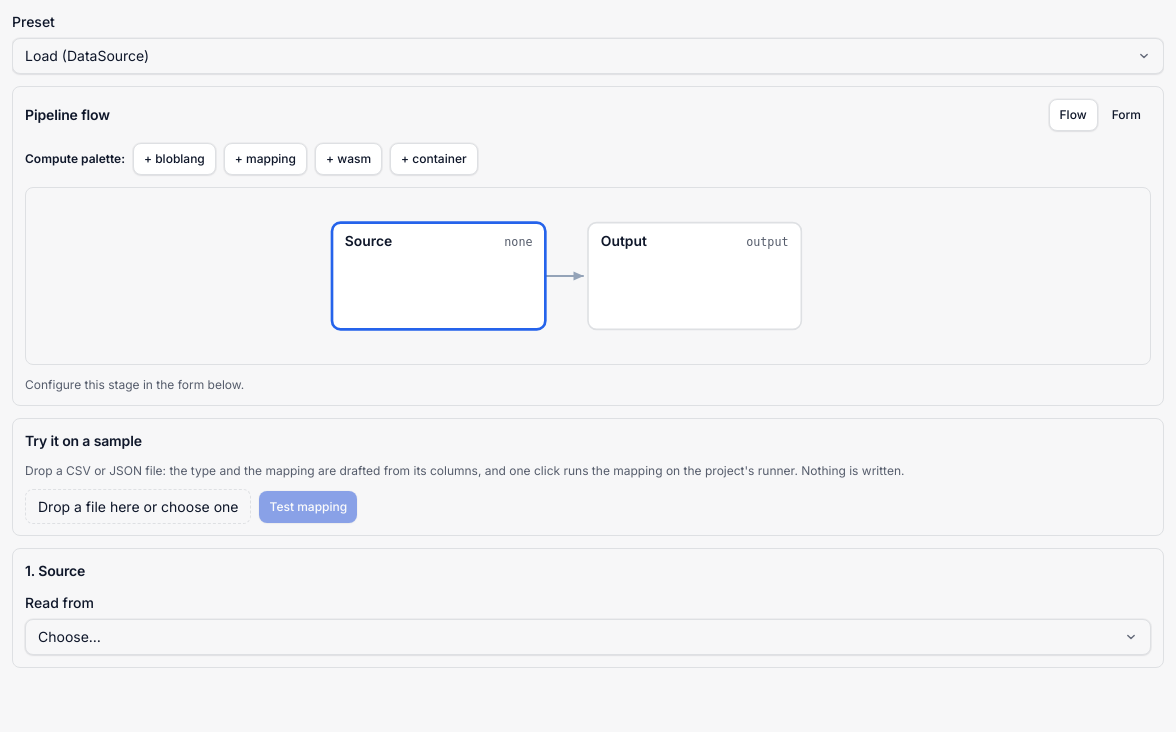
PipelineStudio KPI preset › clicking the test button POSTs the sample url and shows the computed value
Select "Analyse (KPI)" in the dropdown labelled "Preset". click: (588, 56)
box: [12,38,1164,74]
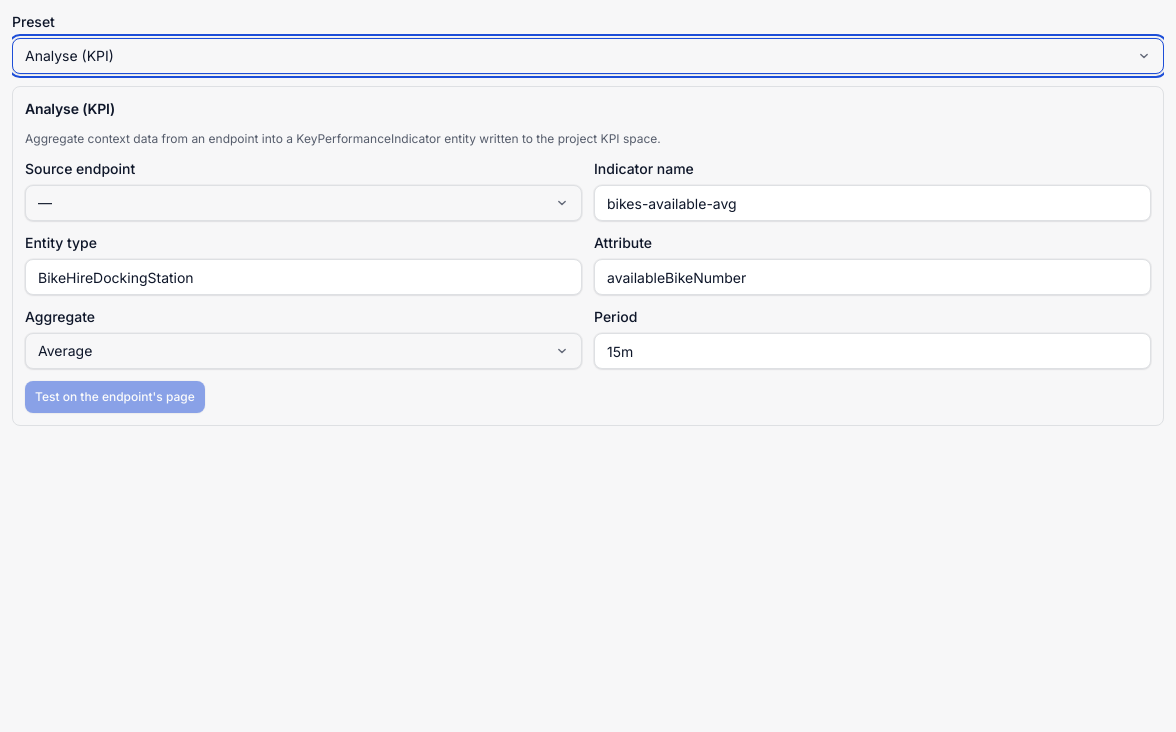
Select "helsinki-all" in the dropdown labelled "Source endpoint". click: (304, 203)
box: [25,185,582,221]
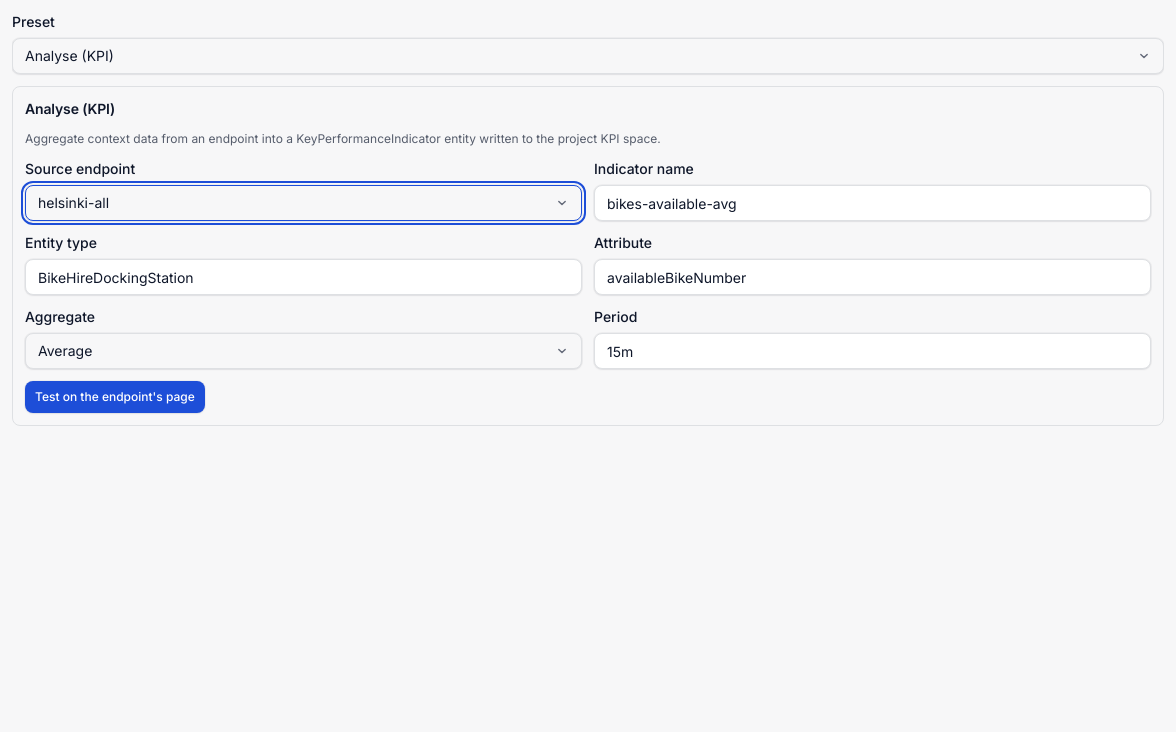
Click the button with test id "studio-kpi-test". click: (115, 397)
box: [25,381,205,413]
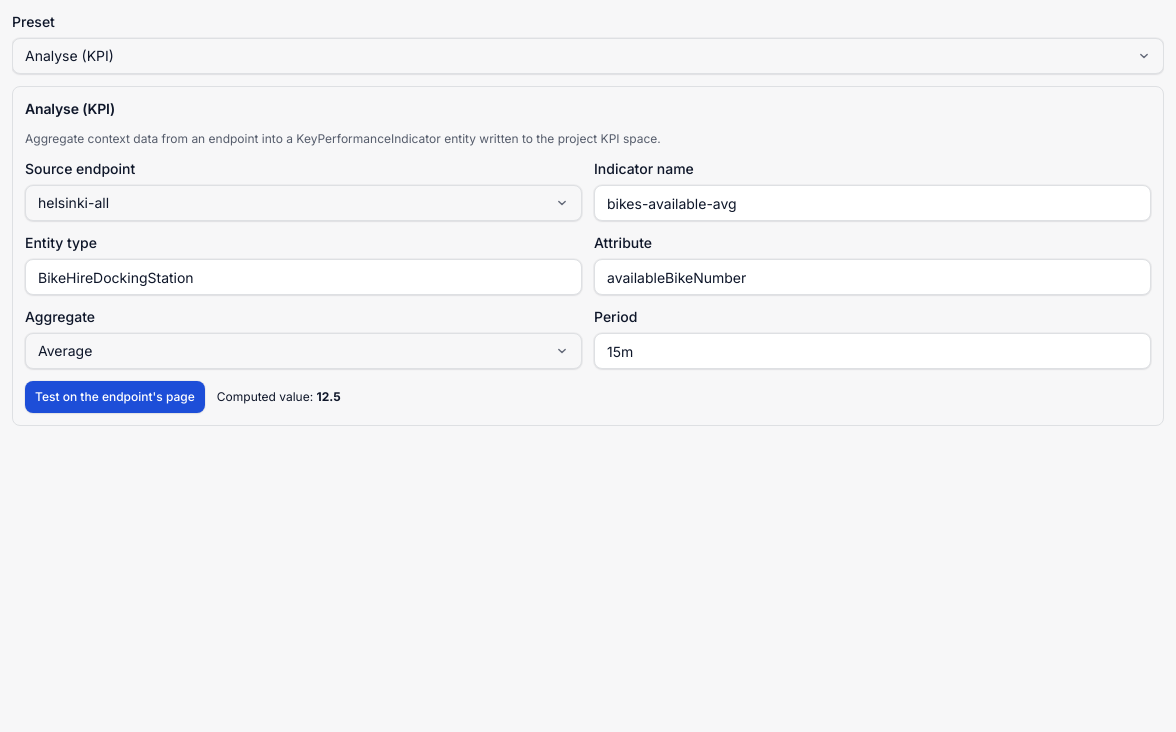
Expected: the text with test id "studio-kpi-value" reads "12.5", [316,389,341,404]
